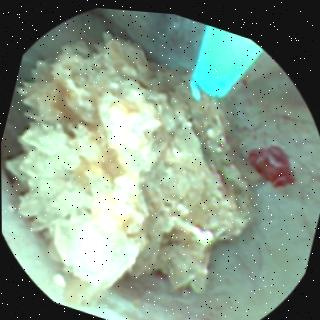fiber: (188, 20, 260, 94)
stone: (2, 31, 257, 302)
tissue: (115, 61, 320, 320)
